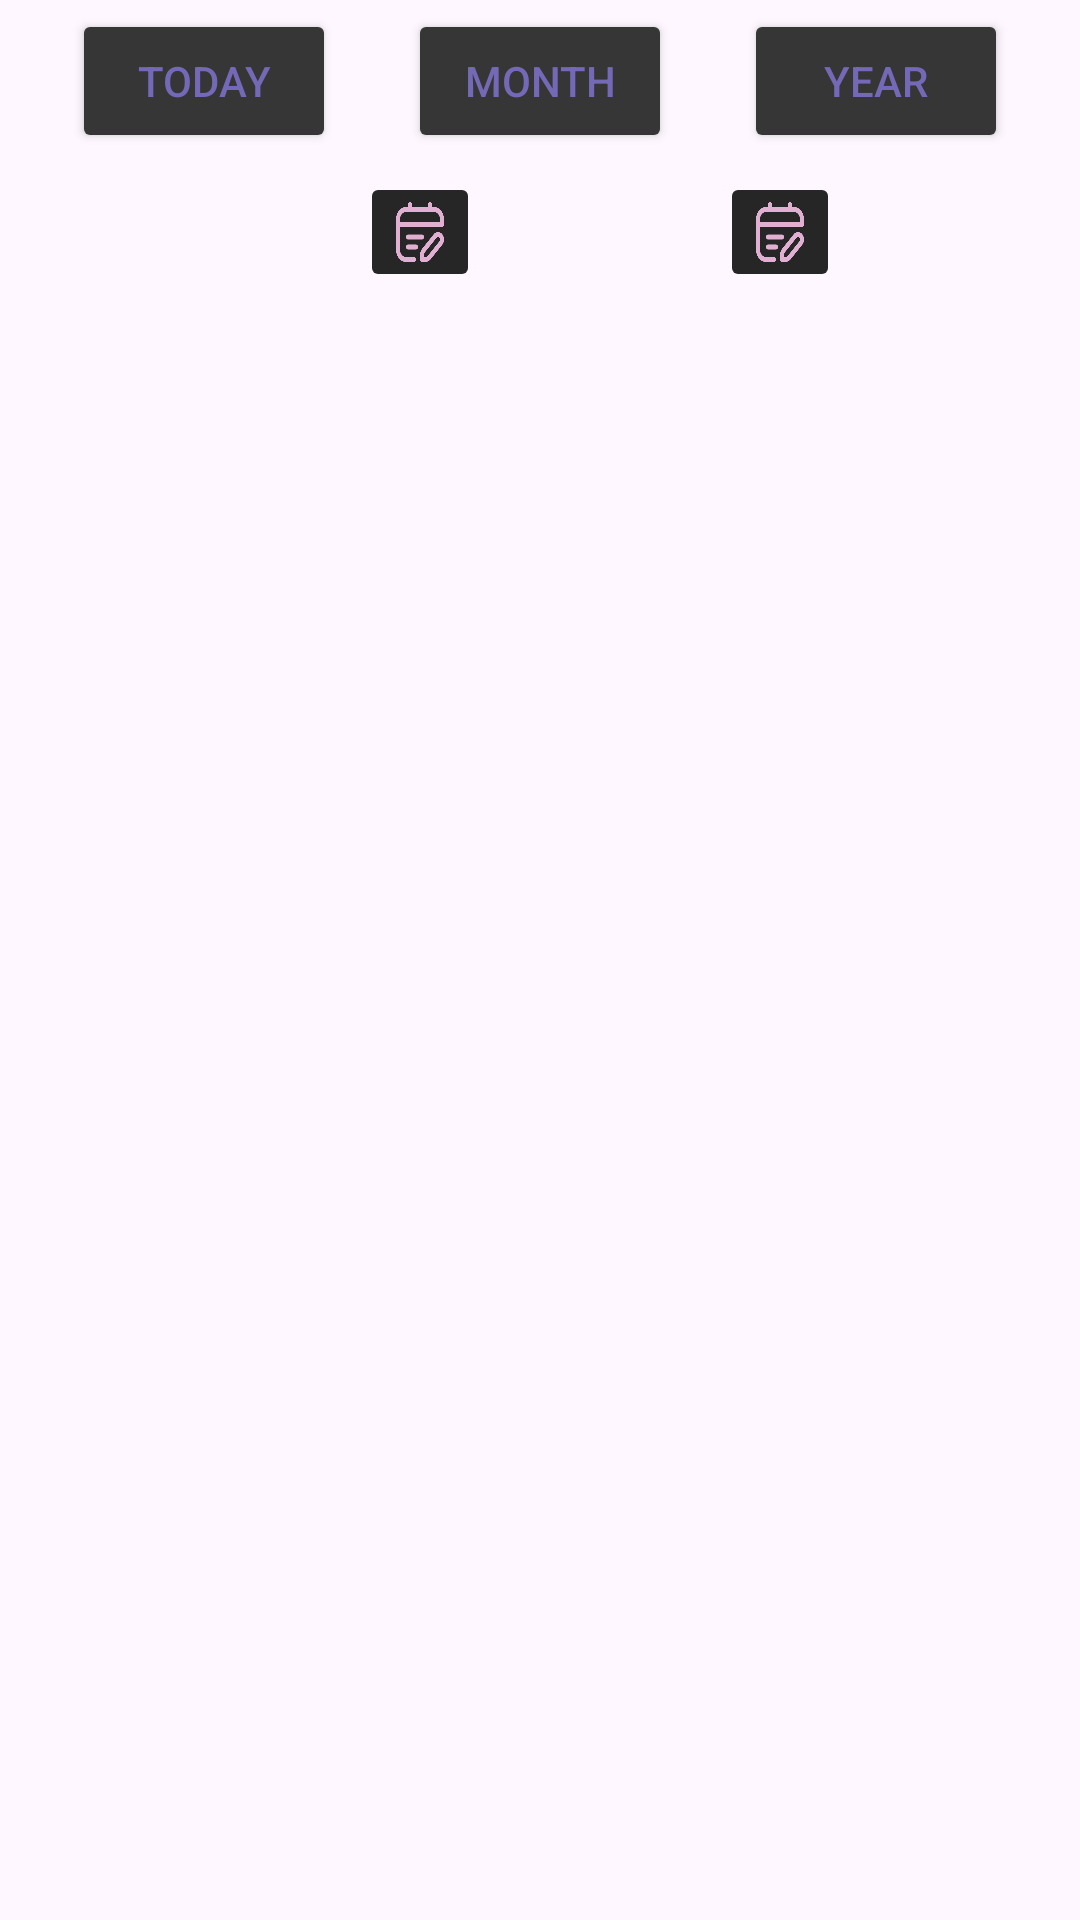

Locate icon controls on the screen. Image size 1080px×1920px, boxes as [left=x1, top=y1, right=x2, bottom=y2].
calendar lines pen: [left=372, top=190, right=468, bottom=274], [left=732, top=190, right=828, bottom=274]
